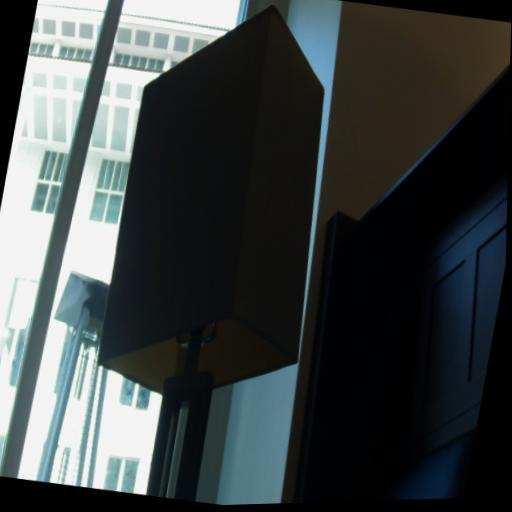lamp: (71, 0, 359, 510)
